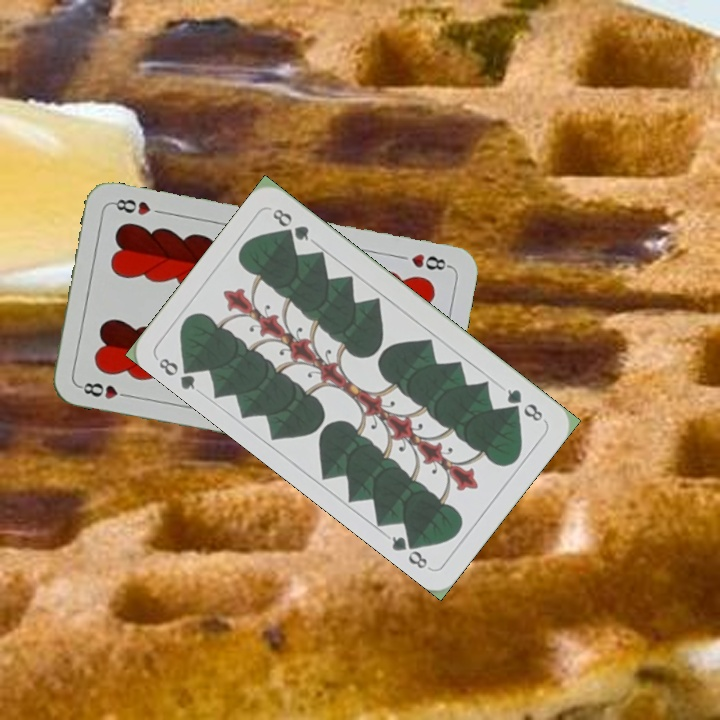G8: (154, 353, 201, 393), (502, 384, 546, 425)
H8: (75, 378, 134, 402), (407, 249, 453, 273)
